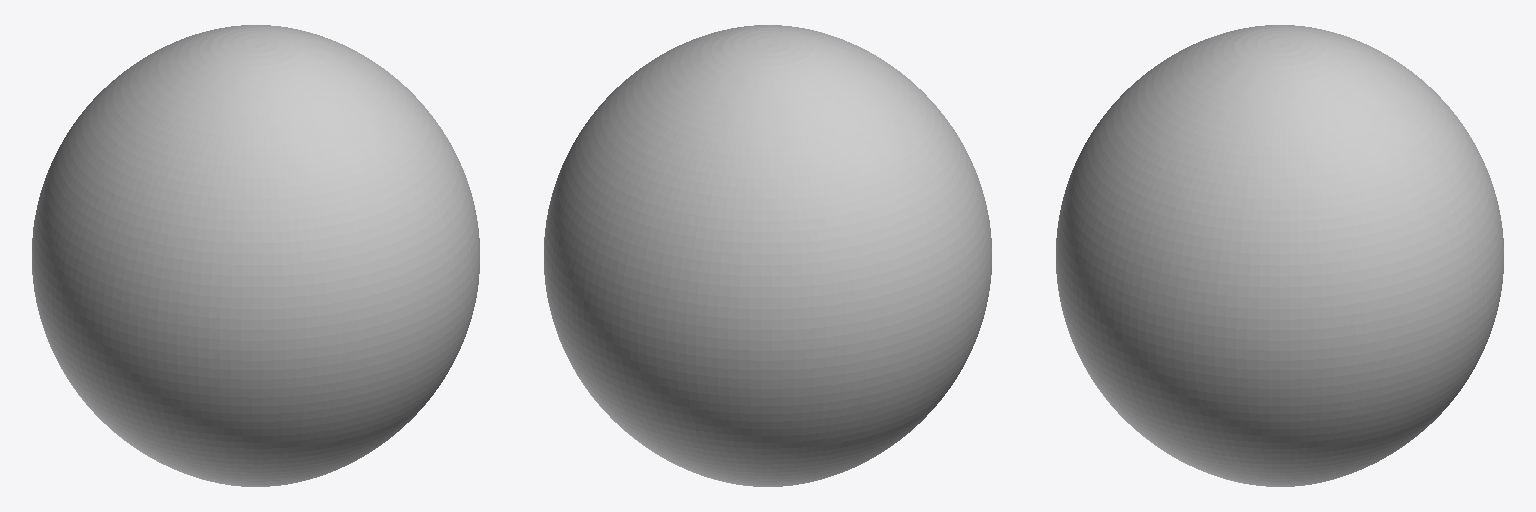
File: hires_sphere.obj
3 renders of one model, left to right at view 1: azimuth 30°, elevation 25°; view 2: azimuth 150°, elevation 25°; view 3: azimuth 270°, elevation 25°, orthographic.
Parts seen in each view (by area): view 1: Sphere; view 2: Sphere; view 3: Sphere.
Part boxes in pixels (bbox=[...]): Sphere: bbox=[32, 25, 479, 486]; Sphere: bbox=[544, 25, 991, 486]; Sphere: bbox=[1056, 25, 1503, 486].
Bounding box in the file's own units: 1.97 × 2.07 × 1.97.